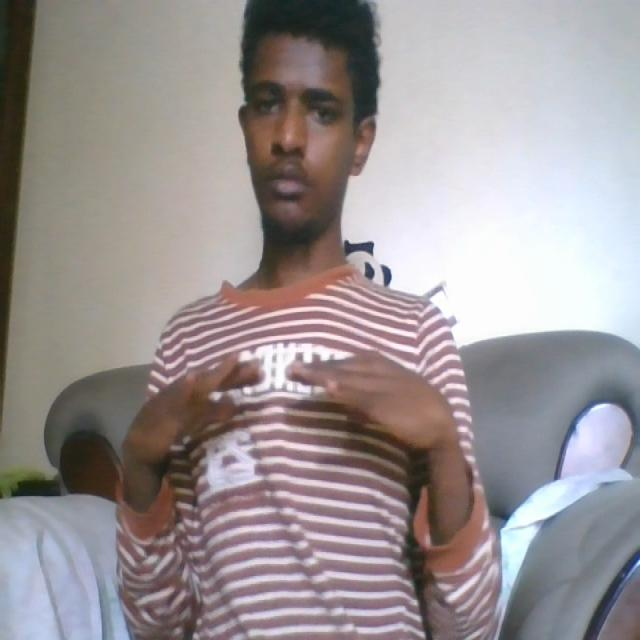meznanat: (136, 352, 447, 456)
